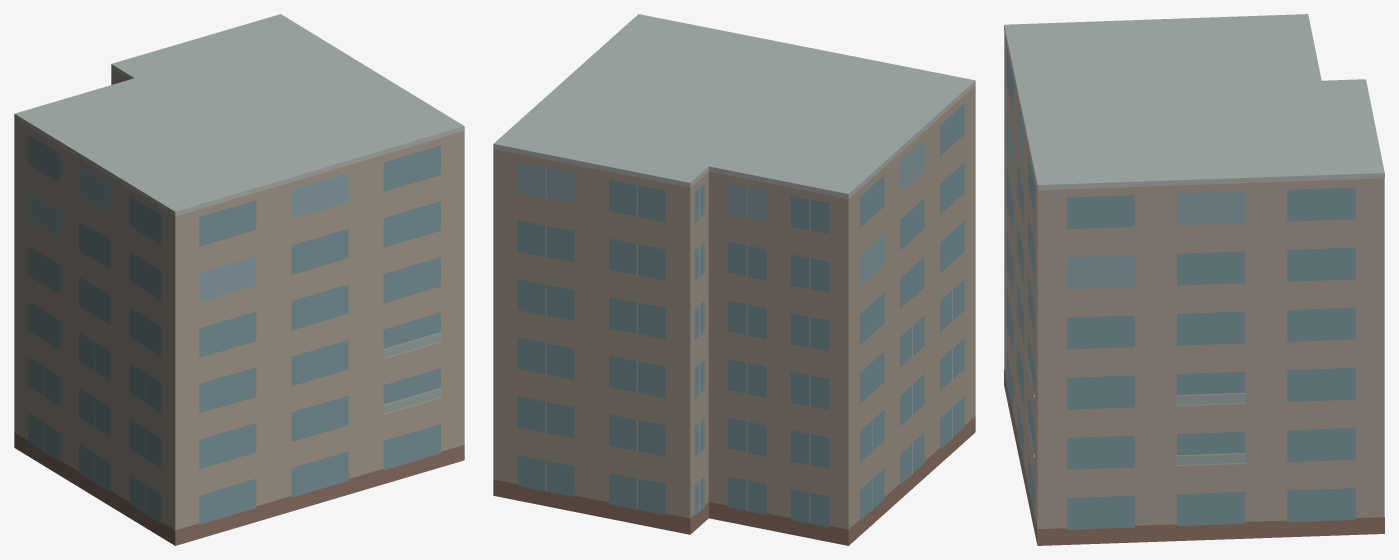
File: survey-upis-32970077.glb
3 views of the same model, side by side, from view 1: azimuth 30°, elevation 25°; view 2: azimuth 150°, elevation 25°; view 3: azimuth 270°, elevation 25° (orthographic). The views are drawn at different scales.
Visible parts, largest first — view 1: survey-upis-32970077.tmp; view 2: survey-upis-32970077.tmp; view 3: survey-upis-32970077.tmp.
Boxes of the visible parts, x1,y1,x2,y2 form: survey-upis-32970077.tmp: [14, 14, 464, 545]; survey-upis-32970077.tmp: [493, 14, 975, 545]; survey-upis-32970077.tmp: [1004, 14, 1384, 545].
Size of the model in its own units: 17.36 by 17.05 by 16.32.
